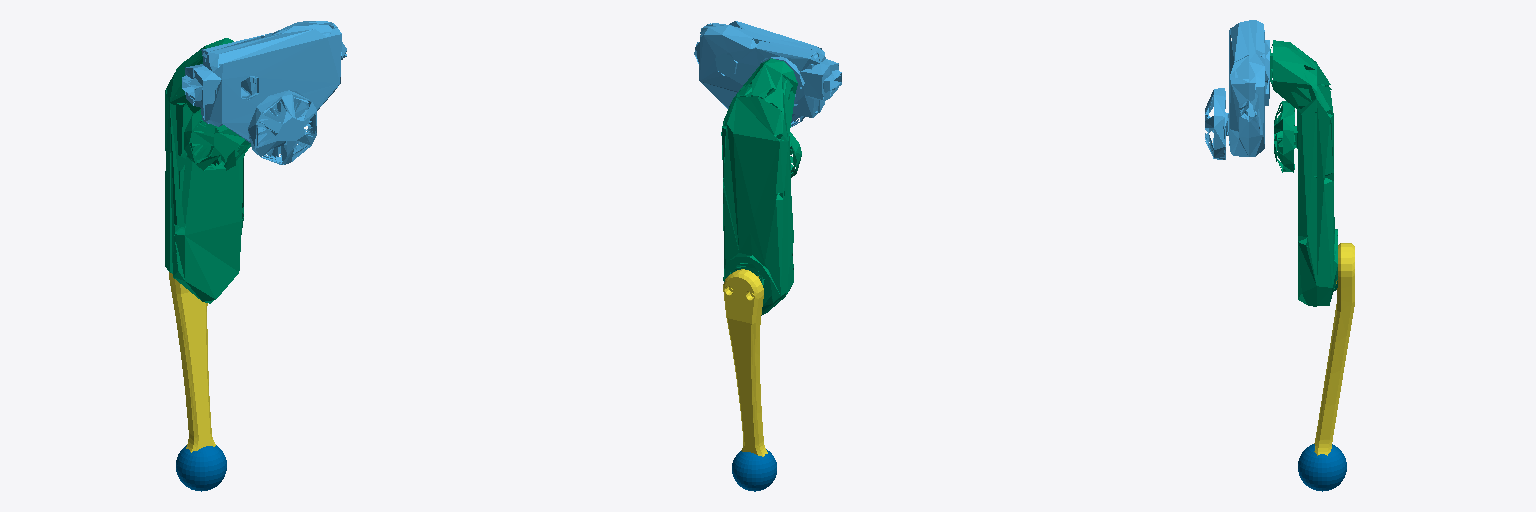
robot.urdf — ester:
<?xml version="1.0" ?>
<!-- =================================================================================== -->
<!-- |    This document was autogenerated by xacro from rear_left_leg.urdf.xacro       | -->
<!-- |    EDITING THIS FILE BY HAND IS NOT RECOMMENDED                                 | -->
<!-- =================================================================================== -->
<robot name="ester">
  <!-- Dummy shoulder joint -->
  <link name="rear_left_hip_aa_link"/>
  <link name="rear_left_hip_fe_link">
    <inertial>
      <mass value="0.138767"/>
      <origin rpy="0 0 3.141592653589793" xyz="-0.01668 0.004473 -0.014463"/>
      <inertia ixx="6.067E-05" ixy="4.443E-06" ixz="-3.065E-06" iyy="1.026E-04" iyz="1.247E-05" izz="6.917E-05"/>
    </inertial>
    <visual>
      <origin rpy="0 0 3.141592653589793" xyz="0 0 -0.003"/>
      <geometry>
        <mesh filename="package://ester_description/meshes/leg/rear_hip_fe.stl" scale="-0.001 0.001 0.001"/>
      </geometry>
    </visual>
    <collision>
      <origin rpy="0 0 3.141592653589793" xyz="0 0 -0.003"/>
      <geometry>
        <mesh filename="package://ester_description/meshes/leg/rear_hip_fe.stl" scale="-0.001 0.001 0.001"/>
      </geometry>
    </collision>
  </link>
  <joint name="rear_left_hip_fe_joint" type="revolute">
    <origin rpy="0 0 0" xyz="0.054678 0.0878 0"/>
    <axis xyz="1 0 0"/>
    <limit effort="2.43" lower="-0.17453292519943295" upper="0.7853981633974483" velocity="83.33333333333333"/>
    <dynamics damping="0.05" friction="0.1"/>
    <parent link="rear_left_hip_aa_link"/>
    <child link="rear_left_hip_fe_link"/>
  </joint>
  <transmission name="rear_left_hip_fe_transmission">
    <type>transmission_interface/SimpleTransmission</type>
    <joint name="rear_left_hip_fe_joint">
      <hardwareInterface>hardware_interface/EffortJointInterface</hardwareInterface>
    </joint>
    <actuator name="rear_left_hip_fe_motor">
      <hardwareInterface>hardware_interface/EffortJointInterface</hardwareInterface>
      <mechanicalReduction>1</mechanicalReduction>
    </actuator>
  </transmission>
  <link name="rear_left_upper_leg_link">
    <inertial>
      <mass value="0.160653"/>
      <origin rpy="0 0 1.5707963267948966" xyz="0.0 0.02256 -0.07763"/>
      <inertia ixx="3.140E-04" ixy="6.009E-09" ixz="-7.395E-08" iyy="3.203E-04" iyz="3.738E-05" izz="3.808E-05"/>
    </inertial>
    <visual>
      <origin rpy="0 0 1.5707963267948966" xyz="0 0 0"/>
      <geometry>
        <mesh filename="package://ester_description/meshes/leg/rear_upper_leg.stl" scale="0.001 0.001 0.001"/>
      </geometry>
    </visual>
    <collision>
      <origin rpy="0 0 1.5707963267948966" xyz="0 0 0"/>
      <geometry>
        <mesh filename="package://ester_description/meshes/leg/rear_upper_leg.stl" scale="0.001 0.001 0.001"/>
      </geometry>
    </collision>
  </link>
  <joint name="rear_left_upper_leg_joint" type="revolute">
    <origin rpy="0 0 0" xyz="0 0.01415 0"/>
    <axis xyz="0 1 0"/>
    <limit effort="4.32" lower="-2.356194490192345" upper="2.356194490192345" velocity="46.875"/>
    <dynamics damping="0.05" friction="0.1"/>
    <parent link="rear_left_hip_fe_link"/>
    <child link="rear_left_upper_leg_link"/>
  </joint>
  <transmission name="rear_left_upper_leg_transmission">
    <type>transmission_interface/SimpleTransmission</type>
    <joint name="rear_left_upper_leg_joint">
      <hardwareInterface>hardware_interface/EffortJointInterface</hardwareInterface>
    </joint>
    <actuator name="rear_left_upper_leg_motor">
      <hardwareInterface>hardware_interface/EffortJointInterface</hardwareInterface>
      <mechanicalReduction>1</mechanicalReduction>
    </actuator>
  </transmission>
  <link name="rear_left_lower_leg_link">
    <inertial>
      <mass value="0.029071"/>
      <origin xyz="0 0.008801 -0.056722"/>
      <inertia ixx="6.791E-05" ixy="-1.480E-16" ixz="2.960E-15" iyy="6.774E-05" iyz="-7.319E-06" izz="2.092E-06"/>
    </inertial>
    <visual>
      <origin rpy="0 0 0" xyz="0 0 0"/>
      <geometry>
        <mesh filename="package://ester_description/meshes/leg/rear_lower_leg.stl" scale="0.001 0.001 0.001"/>
      </geometry>
    </visual>
    <collision>
      <origin rpy="0 0 0" xyz="0 0 0"/>
      <geometry>
        <mesh filename="package://ester_description/meshes/leg/rear_lower_leg.stl" scale="0.001 0.001 0.001"/>
      </geometry>
    </collision>
  </link>
  <joint name="rear_left_lower_leg_joint" type="revolute">
    <axis xyz="0 1 0"/>
    <limit effort="4.32" lower="-2.5132741228718345" upper="2.5132741228718345" velocity="46.875"/>
    <dynamics damping="0.05" friction="0.1"/>
    <origin rpy="0 0 0" xyz="0 0.0315 -0.134"/>
    <parent link="rear_left_upper_leg_link"/>
    <child link="rear_left_lower_leg_link"/>
  </joint>
  <transmission name="rear_left_lower_leg_transmission">
    <type>transmission_interface/SimpleTransmission</type>
    <joint name="rear_left_lower_leg_joint">
      <hardwareInterface>hardware_interface/EffortJointInterface</hardwareInterface>
    </joint>
    <actuator name="rear_left_lower_leg_motor">
      <hardwareInterface>hardware_interface/EffortJointInterface</hardwareInterface>
      <mechanicalReduction>1</mechanicalReduction>
    </actuator>
  </transmission>
  <link name="rear_left_foot_contact_link">
    <inertial>
      <mass value="0.01"/>
      <origin xyz="0 0 0"/>
      <inertia ixx="1e-9" ixy="0.0" ixz="0.0" iyy="1e-9" iyz="0.0" izz="1e-9"/>
    </inertial>
    <visual>
      <origin xyz="0 0 0"/>
      <geometry>
        <sphere radius="0.015"/>
      </geometry>
    </visual>
    <collision>
      <origin xyz="0 0 0"/>
      <geometry>
        <sphere radius="0.015"/>
      </geometry>
    </collision>
  </link>
  <joint name="rear_left_foot_contact_joint" type="fixed">
    <origin xyz="0 0 -0.135"/>
    <parent link="rear_left_lower_leg_link"/>
    <child link="rear_left_foot_contact_link"/>
  </joint>
</robot>

--- Facts derived from the render (not from the file) ---
The picture shows the robot from 3 angles, left to right: view 1: azimuth 30°, elevation 25°; view 2: azimuth 150°, elevation 25°; view 3: azimuth 270°, elevation 25°; orthographic projection.
Model ester with 5 links and 4 joints (3 revolute, 1 fixed), rooted at rear_left_hip_aa_link, posed all joints at 0.
Visible links, largest first — view 1: rear_left_hip_fe_link, rear_left_upper_leg_link, rear_left_lower_leg_link, rear_left_foot_contact_link; view 2: rear_left_upper_leg_link, rear_left_hip_fe_link, rear_left_lower_leg_link, rear_left_foot_contact_link; view 3: rear_left_upper_leg_link, rear_left_hip_fe_link, rear_left_lower_leg_link, rear_left_foot_contact_link.
Boxes of the visible links, x1,y1,x2,y2 form: rear_left_hip_fe_link: [182, 21, 346, 164]; rear_left_upper_leg_link: [165, 38, 250, 303]; rear_left_lower_leg_link: [169, 272, 215, 452]; rear_left_foot_contact_link: [176, 445, 226, 491]; rear_left_upper_leg_link: [721, 58, 801, 315]; rear_left_hip_fe_link: [694, 21, 841, 126]; rear_left_lower_leg_link: [723, 269, 767, 456]; rear_left_foot_contact_link: [732, 449, 776, 491]; rear_left_upper_leg_link: [1270, 40, 1337, 306]; rear_left_hip_fe_link: [1205, 20, 1269, 159]; rear_left_lower_leg_link: [1314, 243, 1354, 455]; rear_left_foot_contact_link: [1298, 444, 1346, 491].
Bounding box of the posed robot: 0.1048 × 0.0915 × 0.3081 m (x, y, z).
3 mesh visuals loaded from 3 distinct referenced files (3 binary STL).
